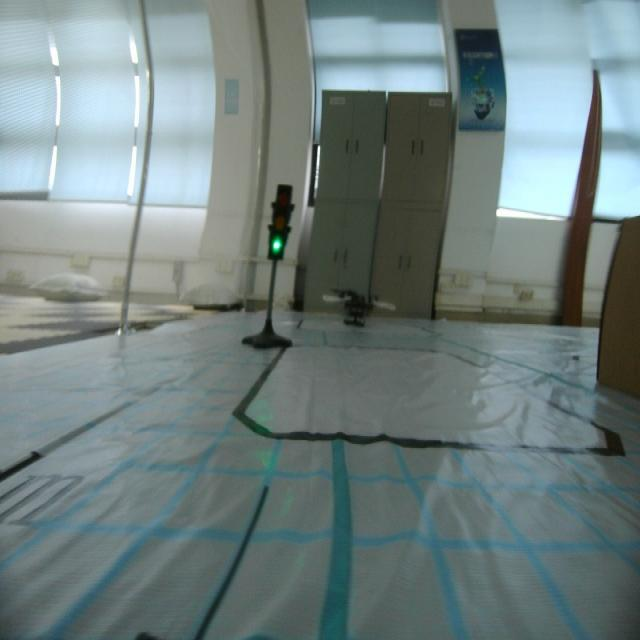green: (266, 176, 291, 263)
